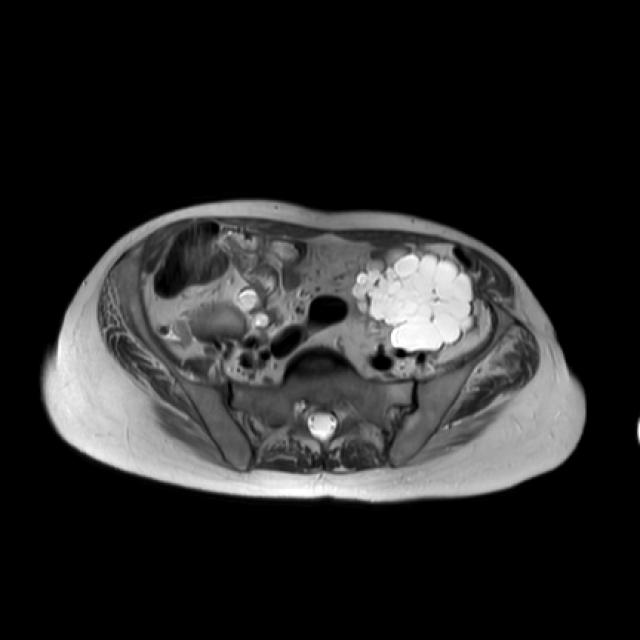sag: (192, 301, 246, 340)
sol: (354, 250, 475, 350)
